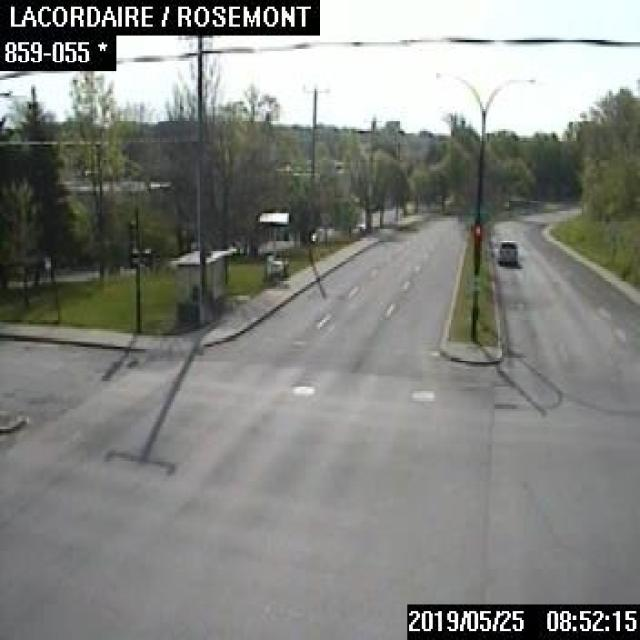construction: (256, 210, 288, 280)
vehicle: (495, 239, 517, 264)
